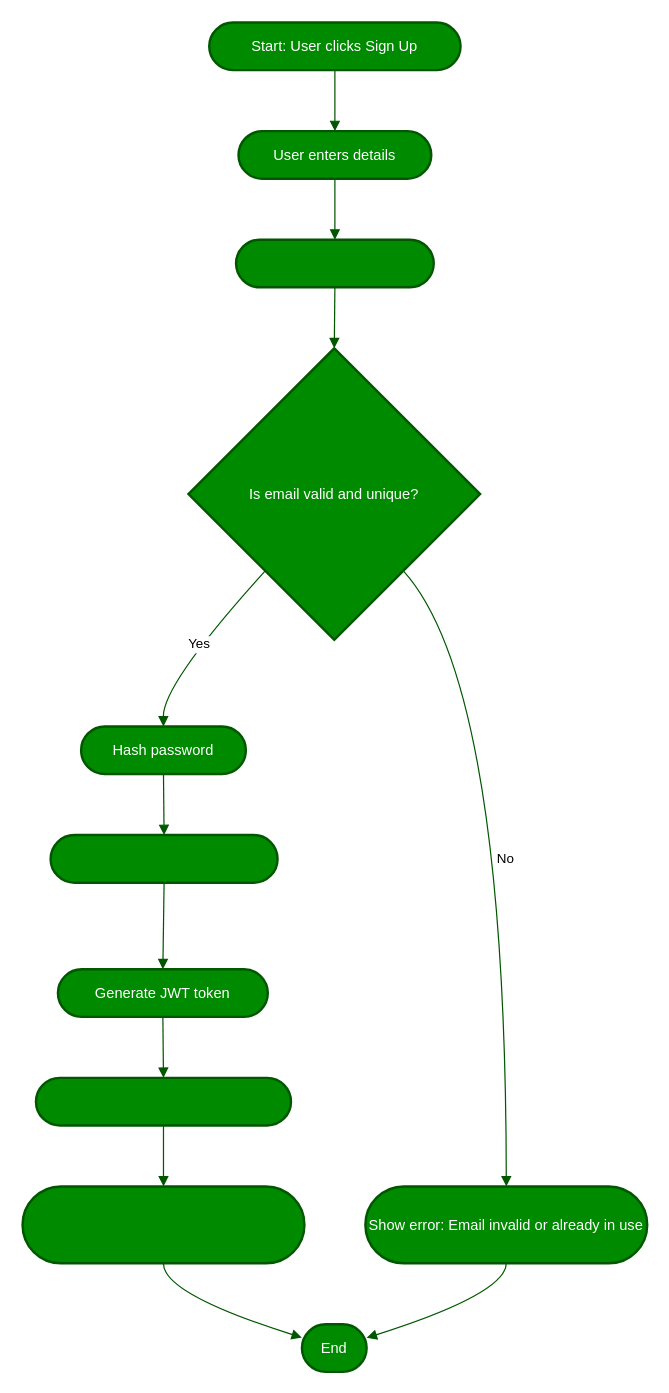
Image size: 669x1393. Some labels were removed from this diagram. The centre of each missing label's shape, as x and y in pixels:
"Send optional welcome email" goes at (x=163, y=1224).
"Send response with token" goes at (x=163, y=1101).
"Store user in database" goes at (x=163, y=858).
"Validate input fields" goes at (x=334, y=263).
